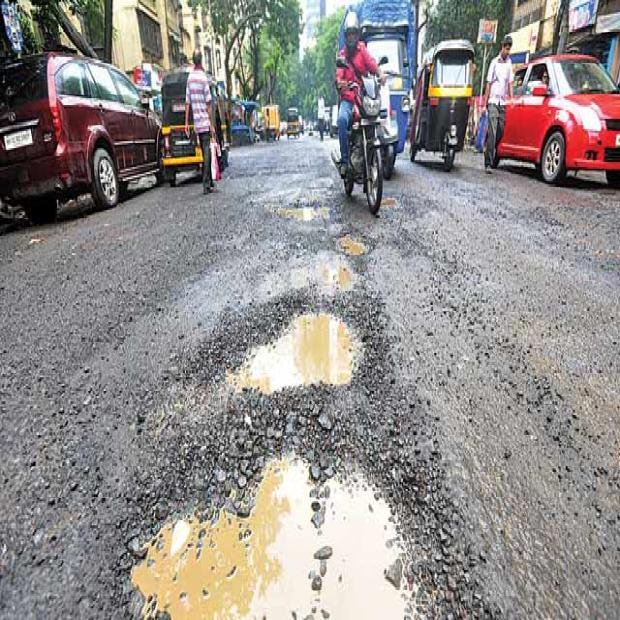lubang: (132, 458, 420, 617), (185, 284, 385, 393), (333, 231, 370, 260), (276, 202, 329, 220), (381, 193, 400, 210)
